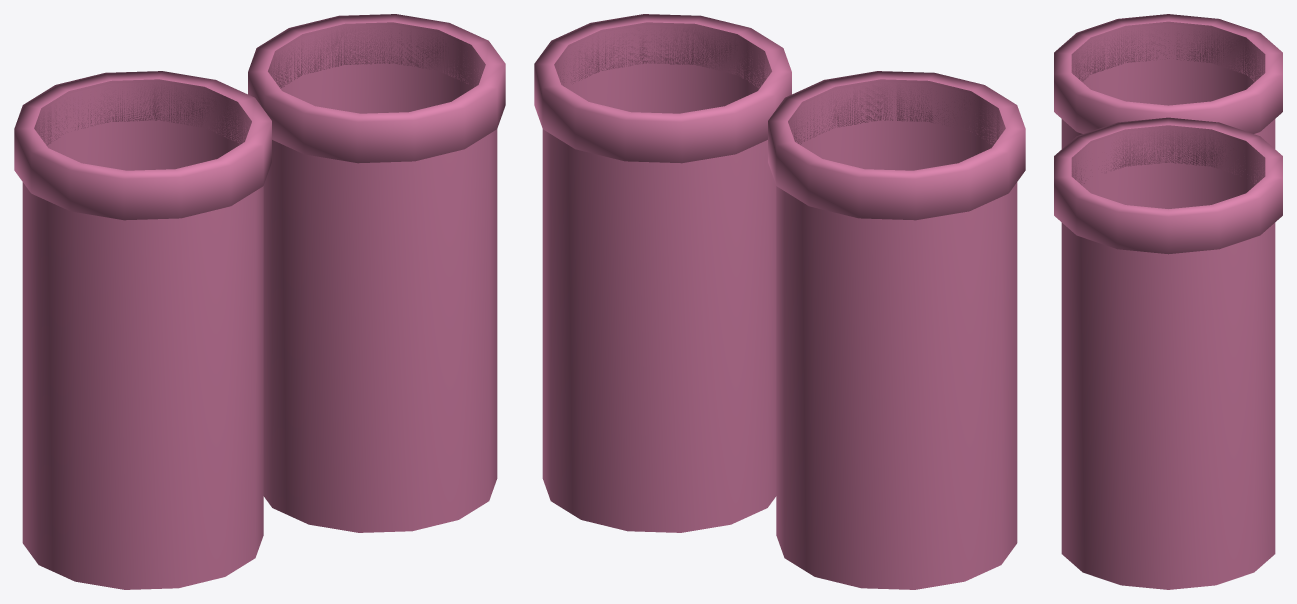
Rendered from neon_tights.glb.
The picture shows the model from 3 angles, left to right: view 1: azimuth 30°, elevation 25°; view 2: azimuth 150°, elevation 25°; view 3: azimuth 270°, elevation 25°; orthographic projection. The views are drawn at different scales.
Parts seen in each view (by area): view 1: neon_tights_LegL, neon_tights_LegR; view 2: neon_tights_LegL, neon_tights_LegR; view 3: neon_tights_LegR, neon_tights_LegL.
Boxes of the visible parts, bbox=[...] form: neon_tights_LegL: bbox=[14, 71, 271, 589]; neon_tights_LegR: bbox=[248, 14, 505, 532]; neon_tights_LegL: bbox=[768, 71, 1025, 589]; neon_tights_LegR: bbox=[534, 14, 791, 532]; neon_tights_LegR: bbox=[1054, 117, 1282, 589]; neon_tights_LegL: bbox=[1054, 14, 1282, 148].
Bounding box in the file's own units: 0.372 × 0.322 × 0.1774.
